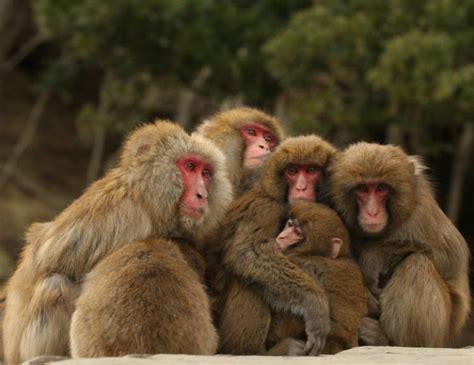monkey: (4, 120, 226, 365), (334, 143, 470, 349), (216, 136, 336, 352), (69, 237, 216, 357), (275, 201, 365, 347), (201, 108, 283, 196)
